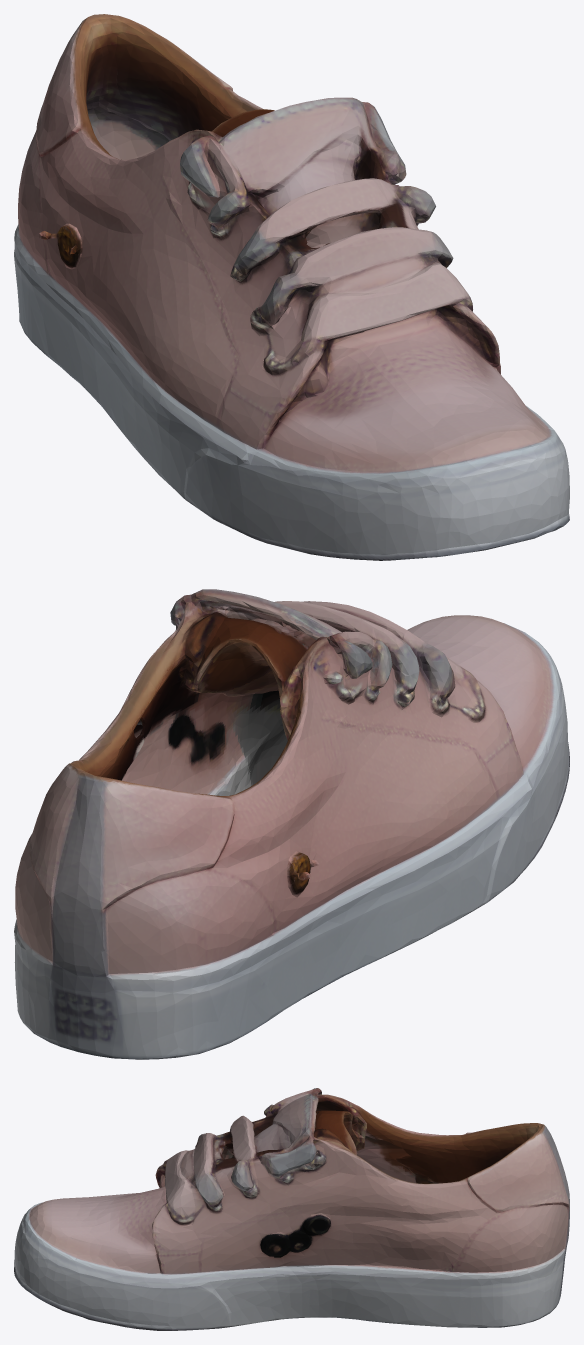
Rendered from velcro-shoe.glb.
The picture shows the model from 3 angles, top to bottom: view 1: azimuth 30°, elevation 25°; view 2: azimuth 150°, elevation 25°; view 3: azimuth 270°, elevation 25°; orthographic projection. The views are drawn at different scales.
Visible parts, largest first — view 1: world; view 2: world; view 3: world.
Part boxes in pixels (bbox=[...]): world: bbox=[14, 14, 569, 560]; world: bbox=[14, 589, 569, 1059]; world: bbox=[14, 1088, 569, 1330].
Bounding box in the file's own units: 0.361 × 0.3937 × 1.
1 material, 1 textured.
